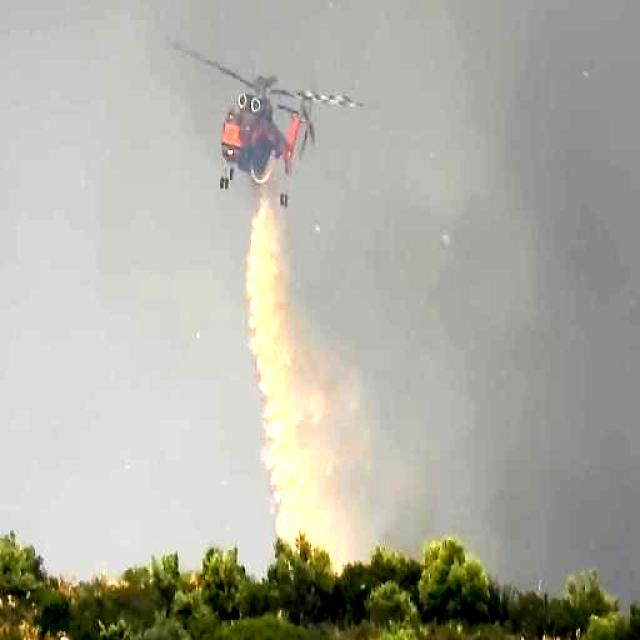drone: (198, 39, 346, 211)
